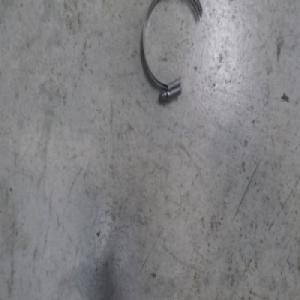AdjustableClamp: (140, 0, 204, 103)
